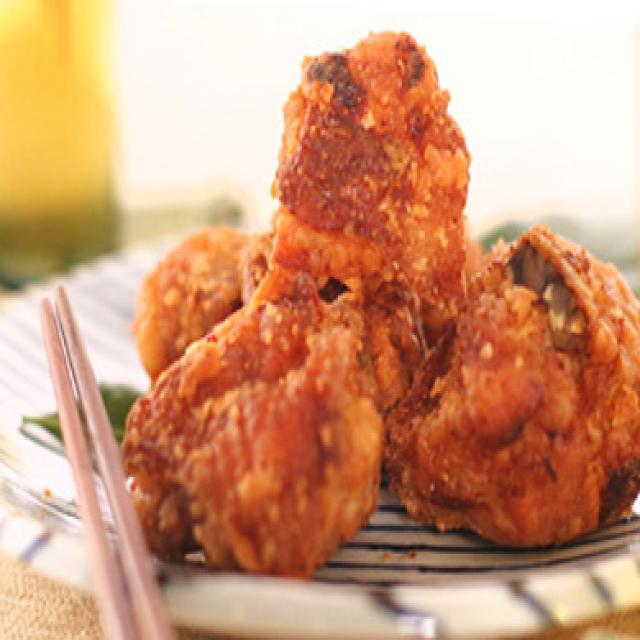鸡肉料理 含炸鸡: (59, 0, 638, 640)
